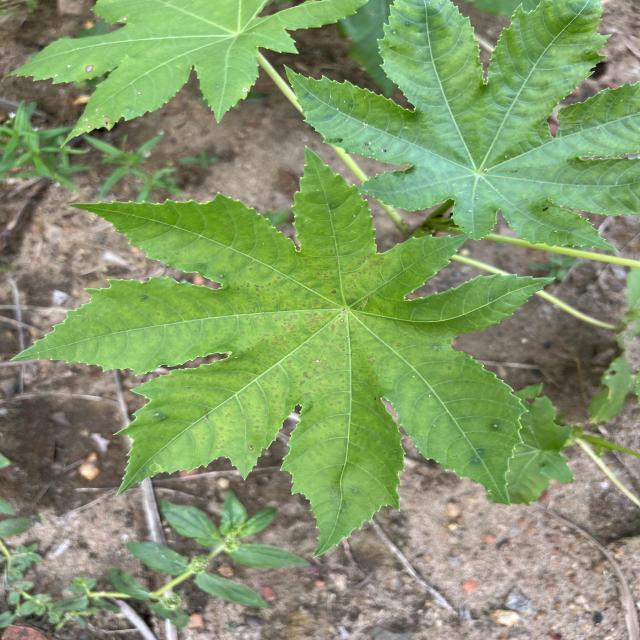Ricinus communis linn: (3, 134, 561, 563), (278, 0, 640, 258)
